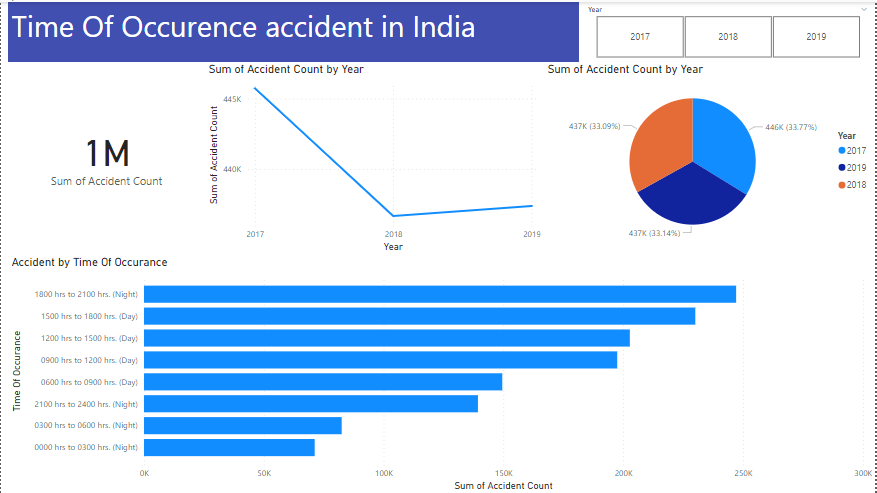

The page's visual inventory and layout, read from the dashboard file:
{"tool":"powerbi","page":{"name":"Time_of_Occurence","canvas":[1280,720],"ordinal":5},"visuals":[{"type":"textbox","box":[10.2,0,835.6,87.8],"z":0},{"type":"clusteredBarChart","title":"Accident by Time Of Occurance","fields":{"Y":["Sum(Time of Occurrence-3 years.Accident Count)"],"Category":["Time of Occurrence-3 years.Time Of Occurance"]},"box":[10.2,370.2,1270.2,349.8],"z":1000},{"type":"card","fields":{"Values":["Sum(Time of Occurrence-3 years.Accident Count)"]},"box":[10.2,87.8,288.3,272.2],"z":2000},{"type":"slicer","fields":{"Values":["Time of Occurrence-3 years.Year"]},"box":[845.9,0,434.6,87.8],"z":3000},{"type":"pieChart","fields":{"Y":["Sum(Time of Occurrence-3 years.Accident Count)"],"Category":["Time of Occurrence-3 years.Year"]},"box":[794.6,87.8,485.9,272.2],"z":4000},{"type":"lineChart","fields":{"Category":["Time of Occurrence-3 years.Year"],"Y":["Sum(Time of Occurrence-3 years.Accident Count)"]},"box":[298.5,87.8,496.1,282.4],"z":5000}]}

Visuals, with their boxes in screenshot pixels (x1, y1, x2, y2), scaled from the page's 1280x720 canvas onto the 877x493 screenshot:
textbox: locate(7, 0, 580, 60)
"Accident by Time Of Occurance" clusteredBarChart: locate(7, 253, 876, 492)
card - Sum(Time of Occurrence-3 years.Accident Count): locate(7, 60, 205, 246)
slicer - Time of Occurrence-3 years.Year: locate(580, 0, 876, 60)
pieChart - Sum(Time of Occurrence-3 years.Accident Count) x Time of Occurrence-3 years.Year: locate(544, 60, 876, 246)
lineChart - Time of Occurrence-3 years.Year x Sum(Time of Occurrence-3 years.Accident Count): locate(205, 60, 544, 253)
